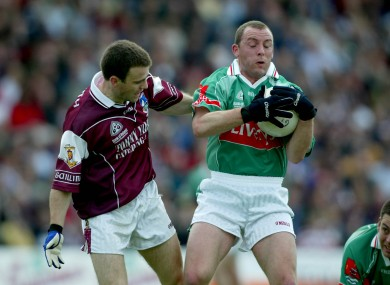ball: (251, 83, 301, 136)
player: (58, 28, 192, 280), (197, 17, 306, 282)
